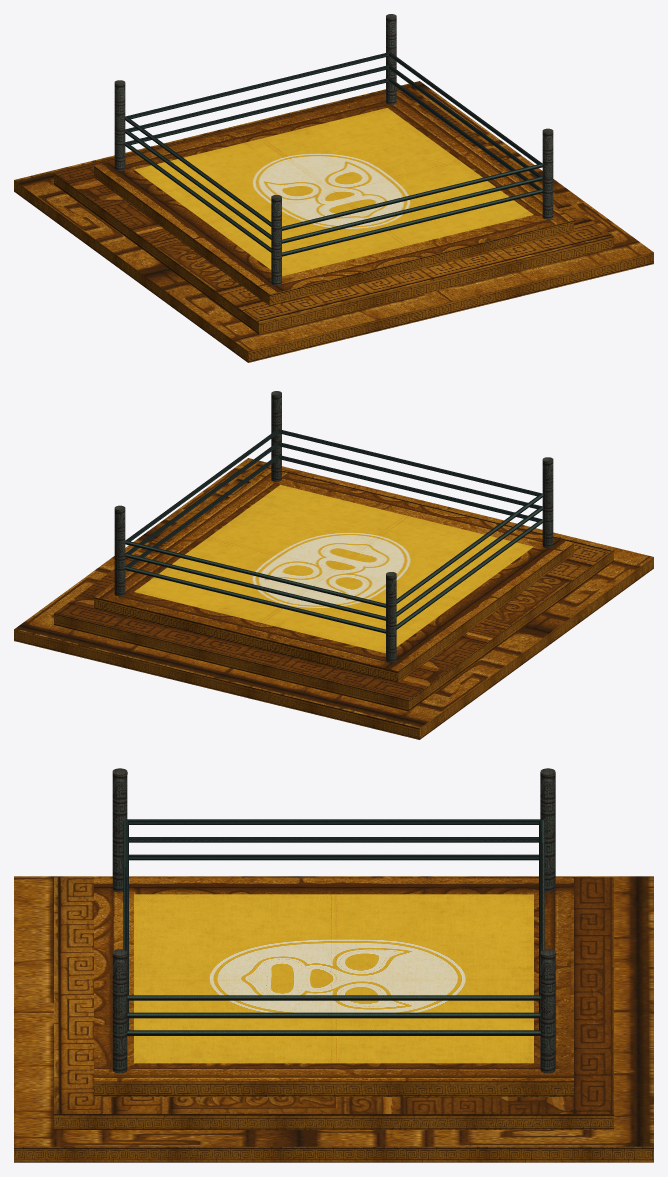
The model's file is Ring.fbx.
3 views of the same model, one above another, from view 1: azimuth 30°, elevation 25°; view 2: azimuth 150°, elevation 25°; view 3: azimuth 270°, elevation 25° (orthographic). The views are drawn at different scales.
Visible parts, largest first — view 1: Base; view 2: Base; view 3: Base.
Part boxes in pixels (x1,y1,x2,y2): Base: [14, 14, 653, 362]; Base: [14, 391, 653, 739]; Base: [14, 768, 653, 1162].
Size of the model in its own units: 1280 by 365 by 1280.
